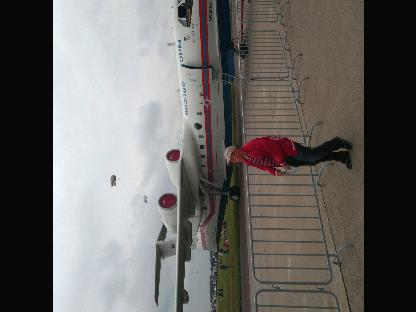B52: (149, 0, 247, 311)
